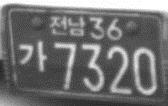0: (132, 47, 158, 95)
2: (107, 43, 133, 95)
3: (81, 41, 105, 92), (88, 15, 104, 39)
6: (105, 16, 122, 41)
7: (53, 39, 76, 90)
가: (17, 39, 48, 71)
전남_O: (48, 15, 86, 36)
